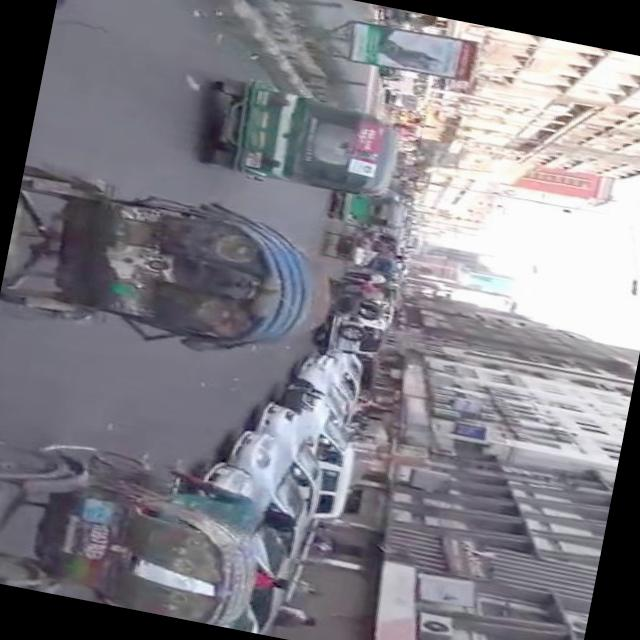car: (176, 459, 312, 636), (214, 428, 328, 561), (242, 399, 341, 522), (303, 354, 366, 426), (295, 364, 357, 430), (327, 309, 392, 364)
motorcycle: (0, 159, 351, 382), (0, 425, 279, 632), (202, 74, 412, 210), (328, 188, 409, 236), (360, 257, 398, 277)
truck: (258, 384, 371, 528), (381, 68, 436, 101)
